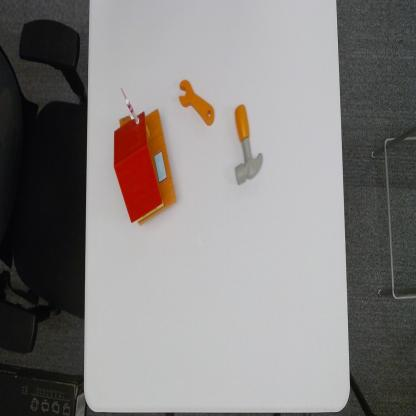Hammer: (233, 102, 264, 189)
House: (113, 86, 178, 230)
Screwdriver: (178, 76, 216, 126)
